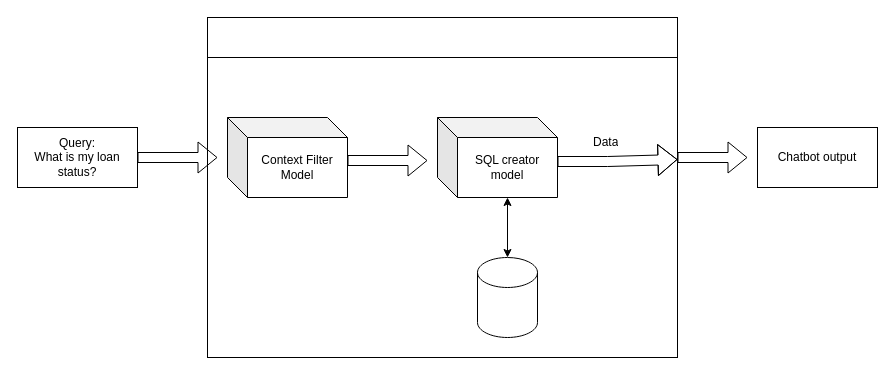
Image size: 895x375. Some labels were removed from this diagram. Each missing label, with the centre of its shape:
Database: [507,297]
Global LLM model: [442,37]
